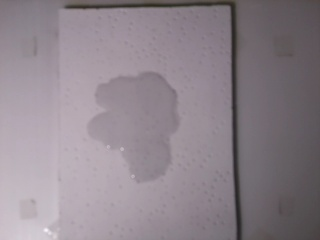Water_detected: (103, 81, 166, 176)
